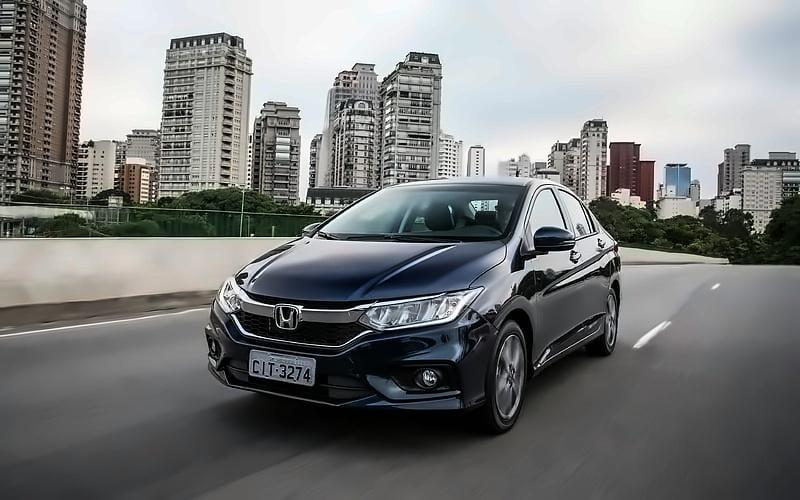Car hood: (238, 234, 515, 310)
Front bumper: (205, 294, 496, 416)
Headlight - -L-: (355, 287, 489, 332)
Headlight - -R-: (213, 274, 248, 313)
Passenger-s door - -F-L-: (517, 182, 591, 380)
Passenger-s door - -R-L-: (553, 183, 607, 363)
Side bumper - -L-: (527, 303, 611, 387)
Side mirror - -L-: (530, 226, 578, 254)
Side mirror - -R-: (300, 218, 327, 242)
